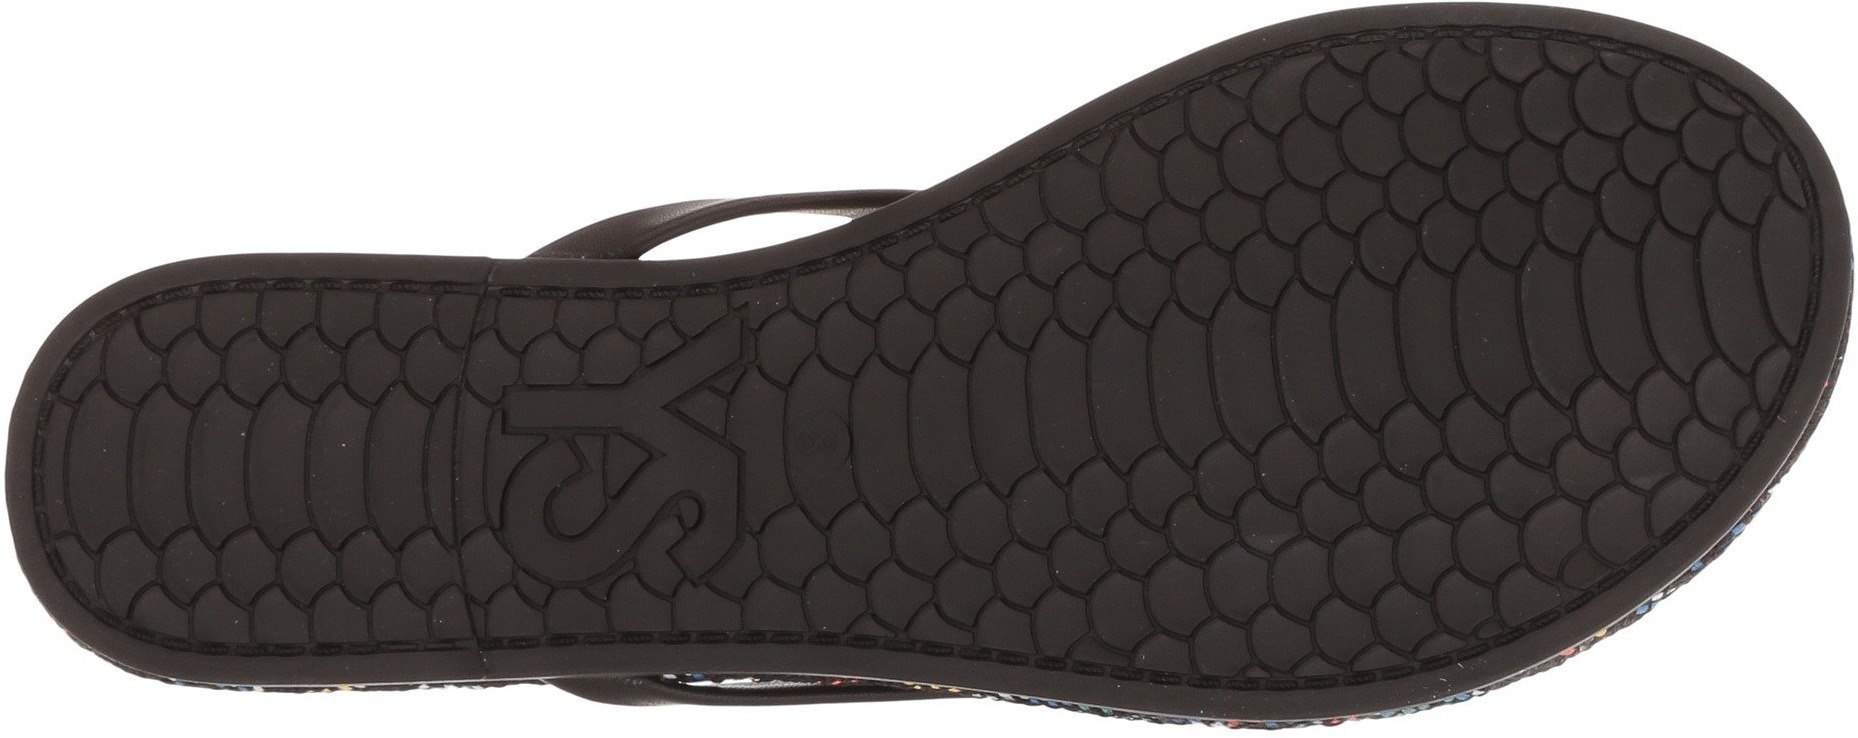circle: (1231, 406, 1487, 660), (1216, 89, 1454, 317), (1014, 432, 1226, 654), (1492, 359, 1689, 545), (1468, 38, 1652, 237), (1019, 171, 1184, 336), (842, 488, 997, 638), (192, 295, 334, 424), (196, 519, 337, 648)
text: (483, 314, 751, 588)
